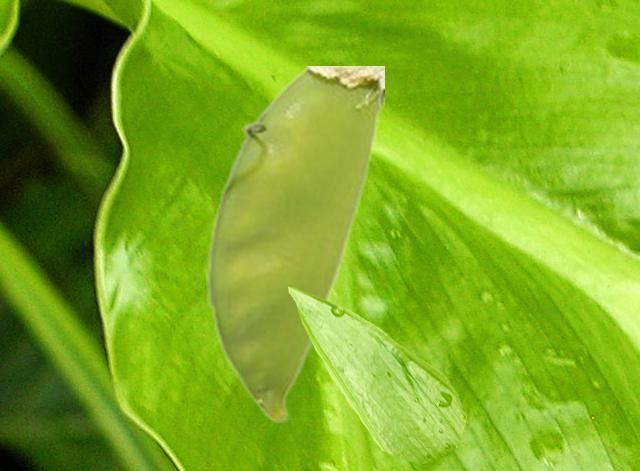pea: (206, 66, 383, 421)
